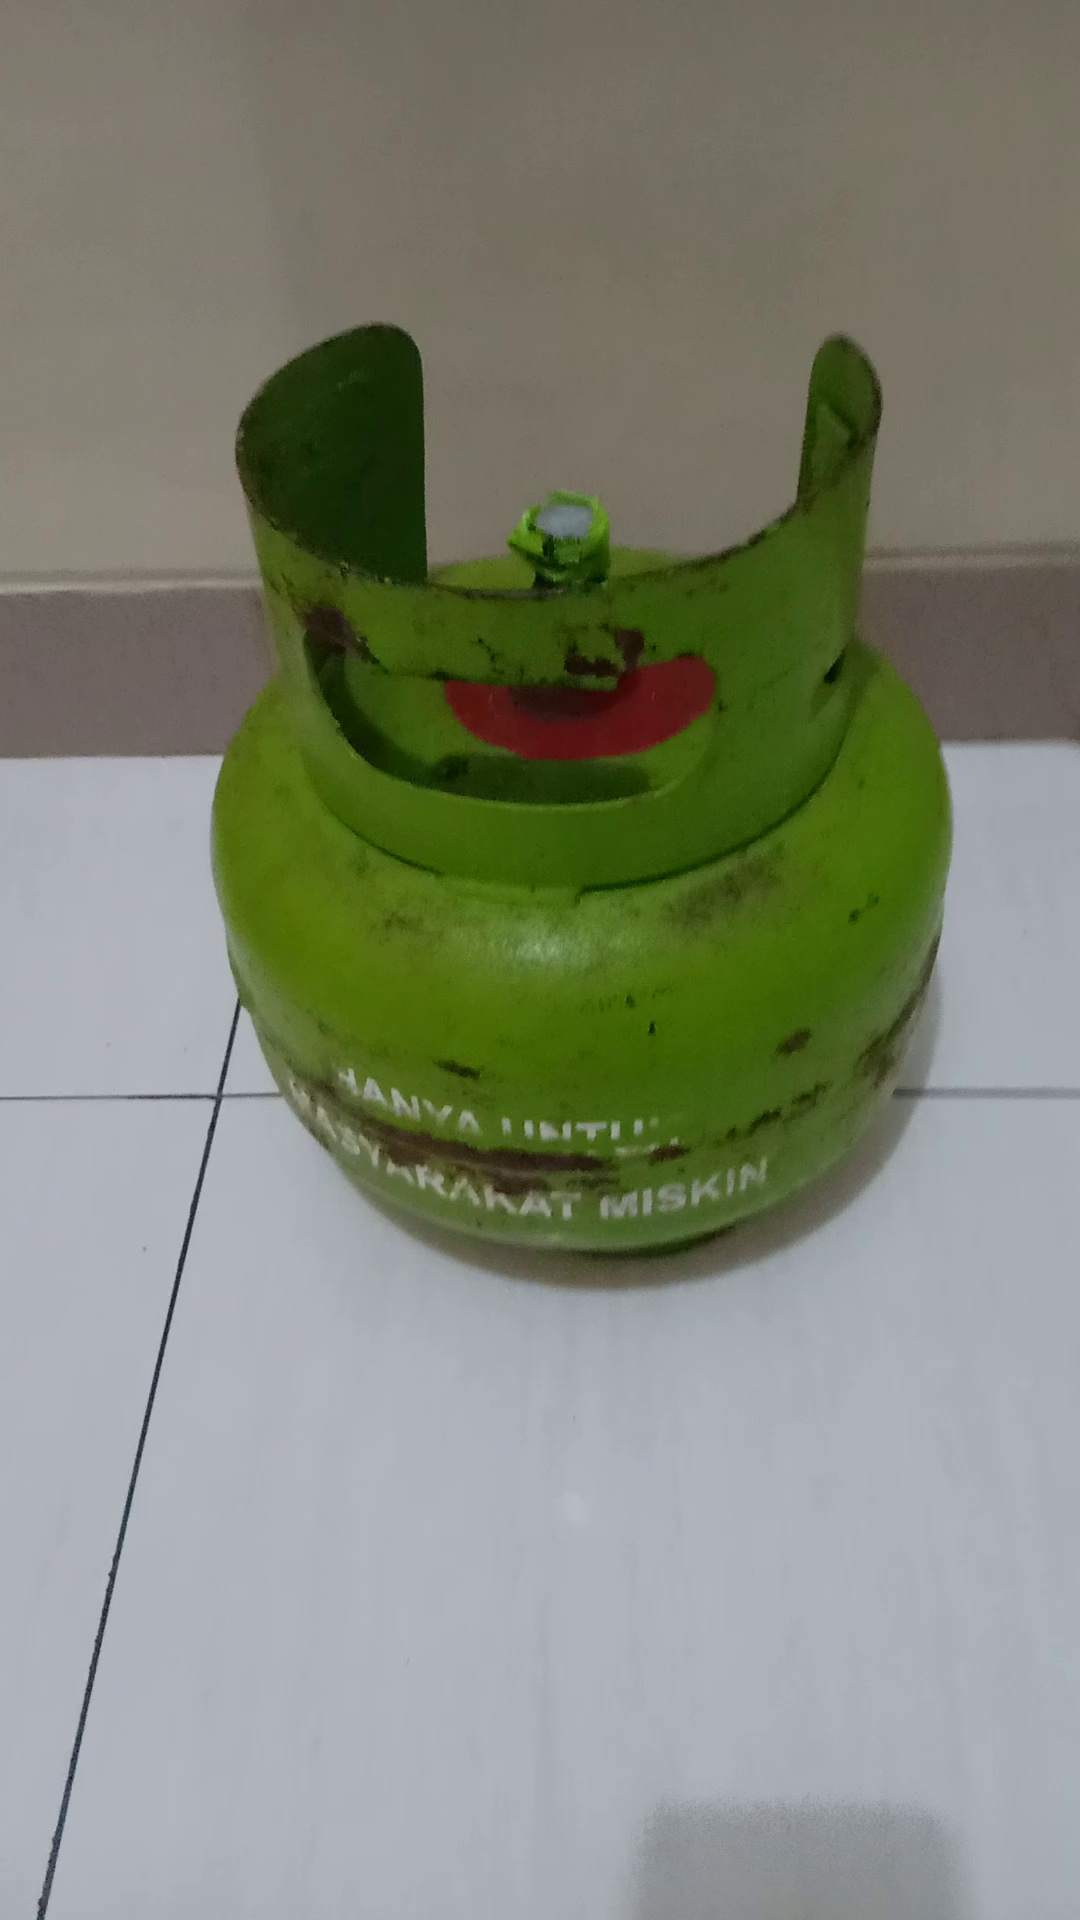gas_ijo: (212, 316, 951, 1284)
